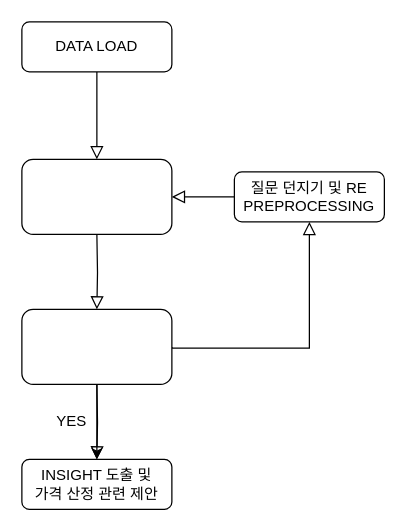
The diagram is 406 pixels wide and 531 high, and some of its shapes have lost their labels. Each missing label, with the centre of its shape:
EDA: the point at 96,346
PREPROCESSING: the point at 96,196
